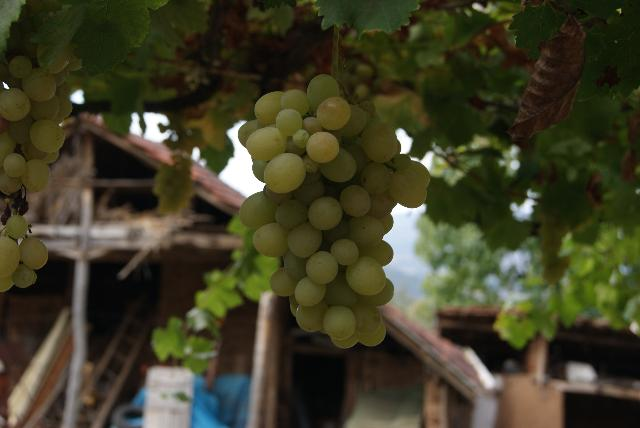grapes: (240, 75, 430, 348), (0, 32, 72, 292)
